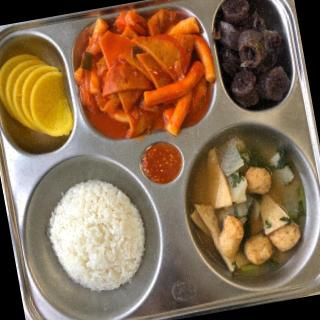Nasi: (37, 165, 157, 304)
